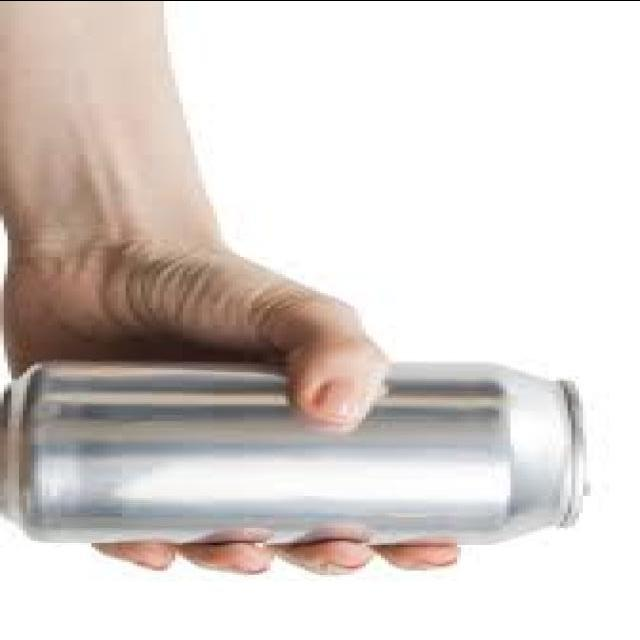can: (0, 353, 590, 551)
